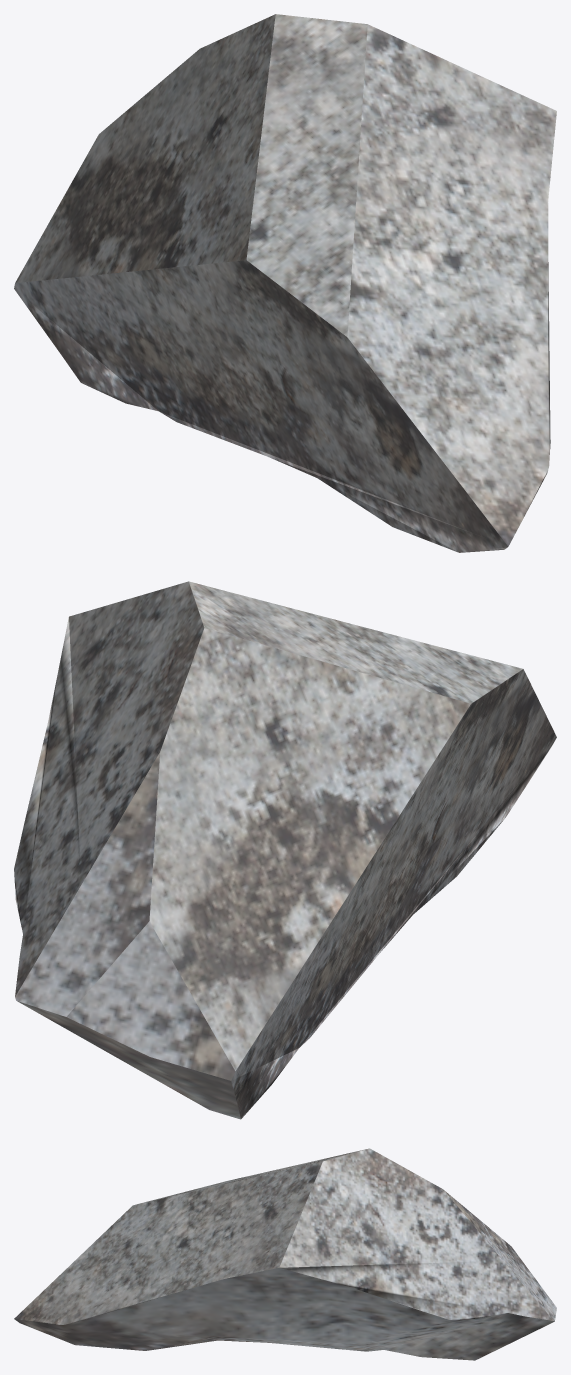
File: Asteroid_Medium_001_02_001_03_004.fbx
The picture shows the model from 3 angles, top to bottom: view 1: azimuth 30°, elevation 25°; view 2: azimuth 150°, elevation 25°; view 3: azimuth 270°, elevation 25°; orthographic projection. The views are drawn at different scales.
Visible parts, largest first — view 1: Asteroid_Medium_001_02_001_03_004; view 2: Asteroid_Medium_001_02_001_03_004; view 3: Asteroid_Medium_001_02_001_03_004.
Part boxes in pixels (bbox=[...]): Asteroid_Medium_001_02_001_03_004: bbox=[14, 14, 556, 552]; Asteroid_Medium_001_02_001_03_004: bbox=[14, 581, 556, 1119]; Asteroid_Medium_001_02_001_03_004: bbox=[14, 1148, 556, 1360].
Bounding box in the file's own units: 6.6 × 7.19 × 14.31.
